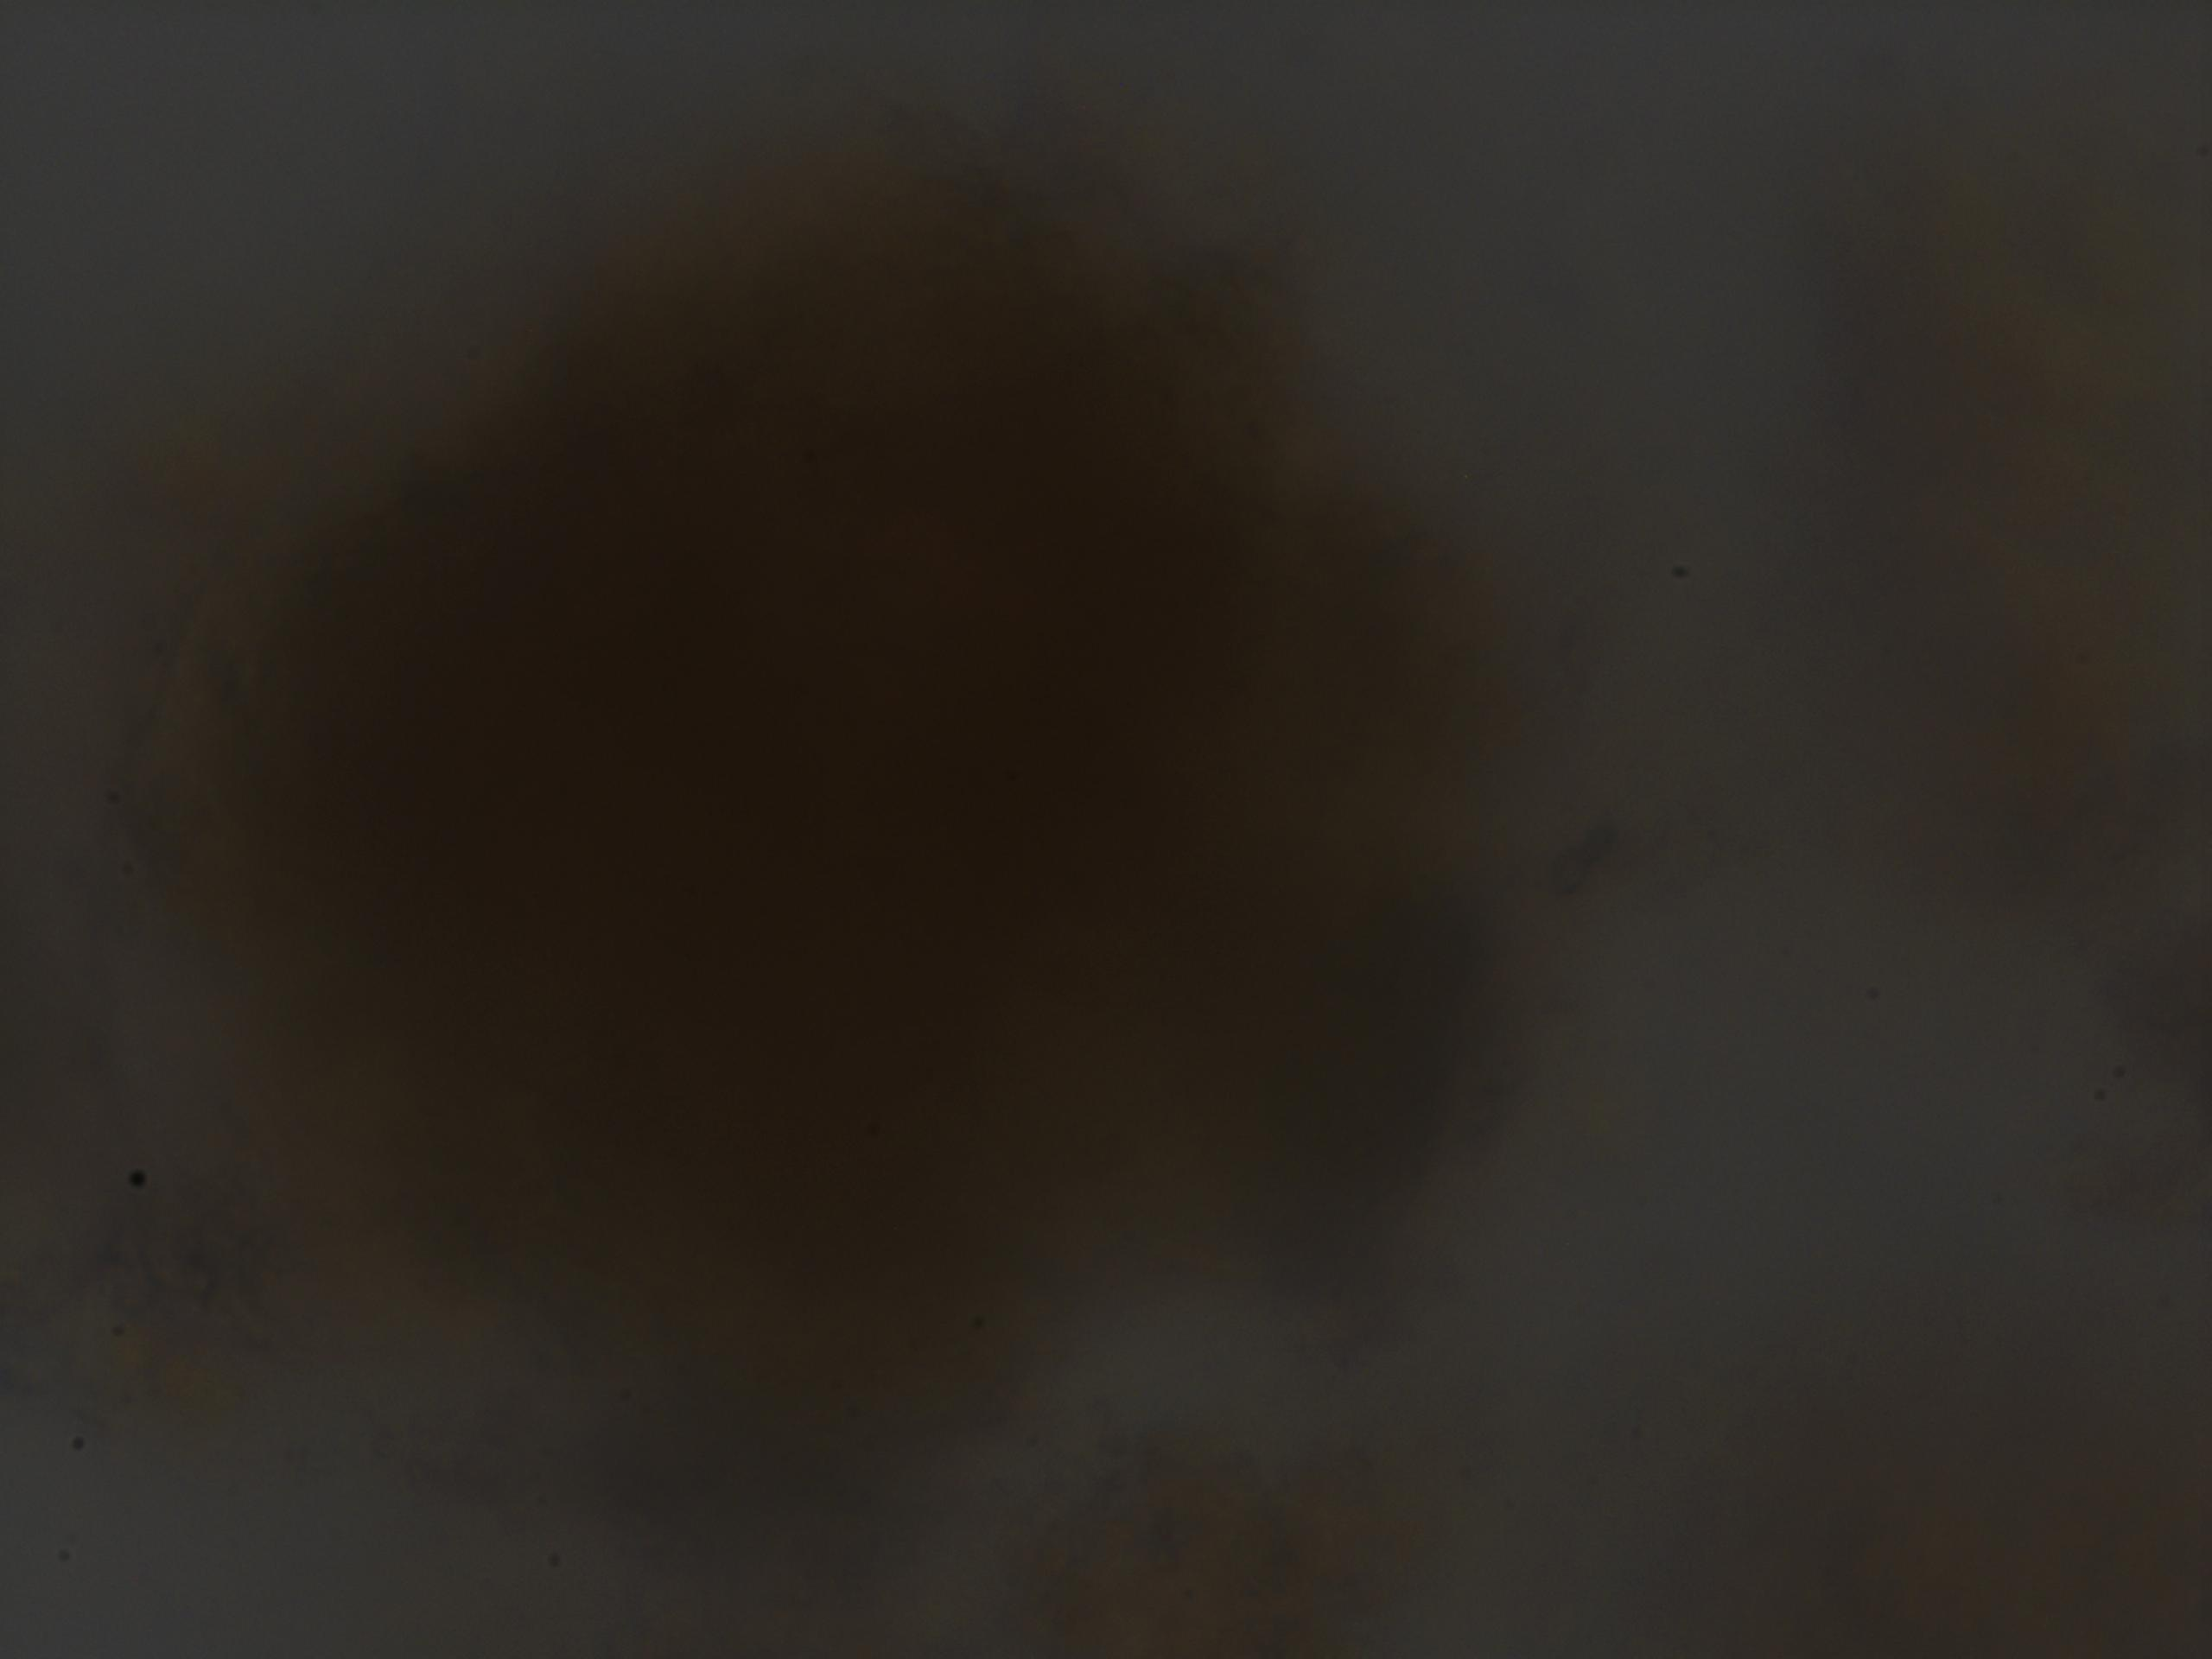spherical_floc: (186, 96, 1552, 1535)
